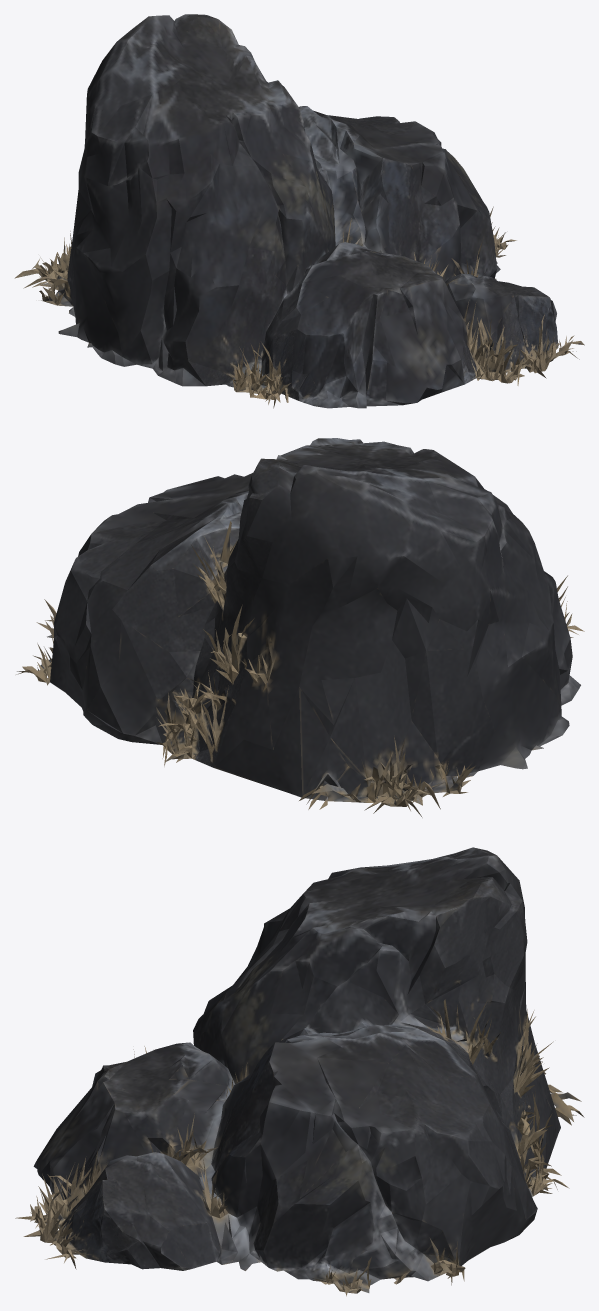
Rendered from boulder_meshy_hq.glb.
The picture shows the model from 3 angles, top to bottom: view 1: azimuth 30°, elevation 25°; view 2: azimuth 150°, elevation 25°; view 3: azimuth 270°, elevation 25°; orthographic projection. The views are drawn at different scales.
Parts seen in each view (by area): view 1: output_unwrapped; view 2: output_unwrapped; view 3: output_unwrapped.
Boxes of the visible parts, box(x1,y1,x2,y2) form: output_unwrapped: box(14, 14, 584, 408); output_unwrapped: box(16, 438, 584, 817); output_unwrapped: box(15, 847, 584, 1296).
Bounding box in the file's own units: 1.85 × 1.03 × 1.88.
1 material, 1 textured.
